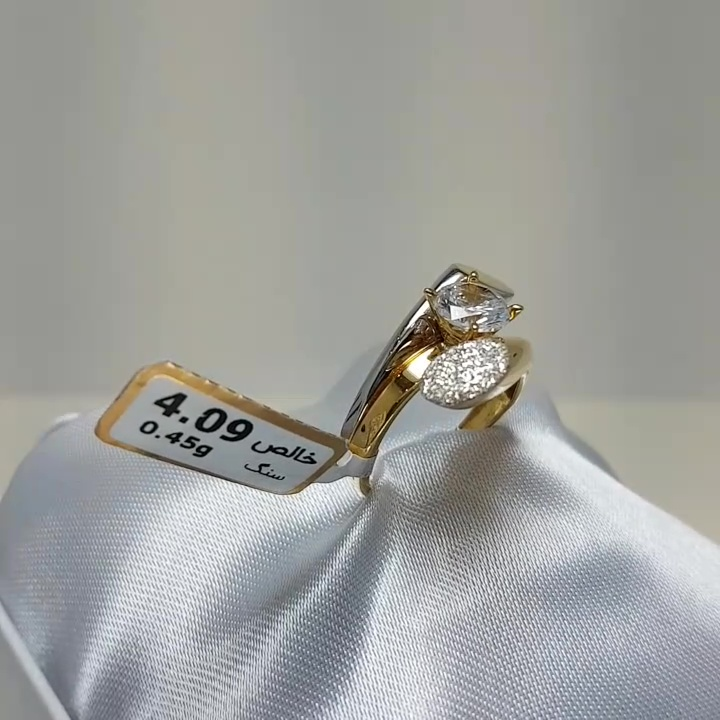Ring 7: (331, 242, 570, 511)
